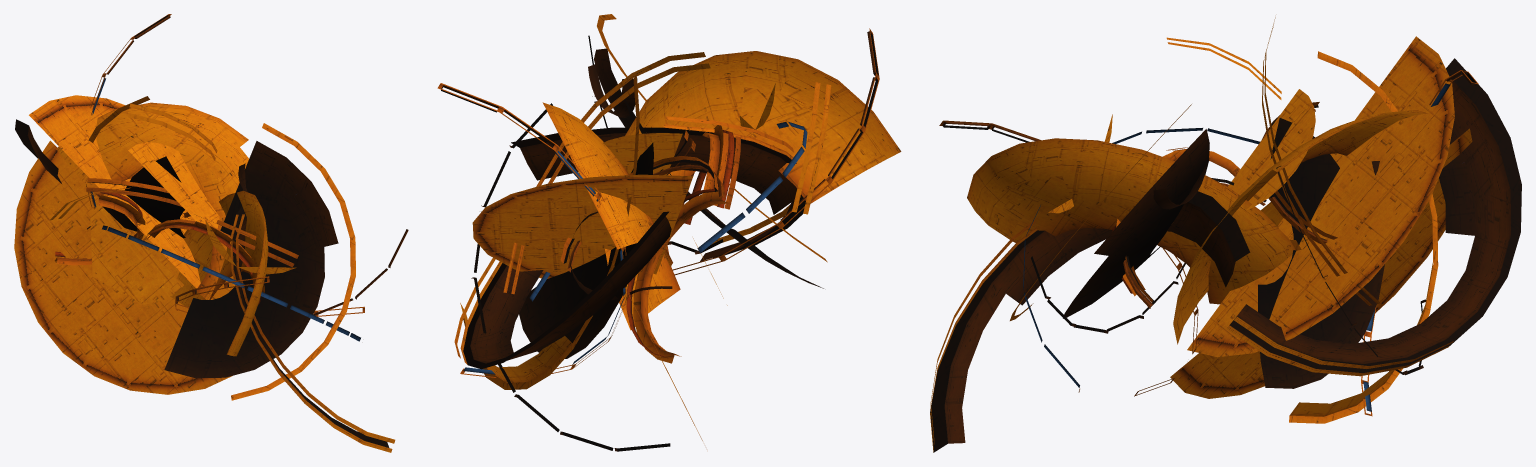
The model's file is MonsterB_Die10.obj.
3 views of the same model, side by side, from view 1: azimuth 30°, elevation 25°; view 2: azimuth 150°, elevation 25°; view 3: azimuth 270°, elevation 25° (orthographic). The views are drawn at different scales.
Parts seen in each view (by area): view 1: Sphere001; view 2: Sphere001; view 3: Sphere001.
Boxes of the visible parts, left/top/right/bottom form: Sphere001: left=14, top=14, right=408, bottom=452; Sphere001: left=437, top=14, right=901, bottom=451; Sphere001: left=930, top=17, right=1521, bottom=452.
Bounding box in the file's own units: 198 × 210 × 303.
Materials: 1 (1 with a texture image).
